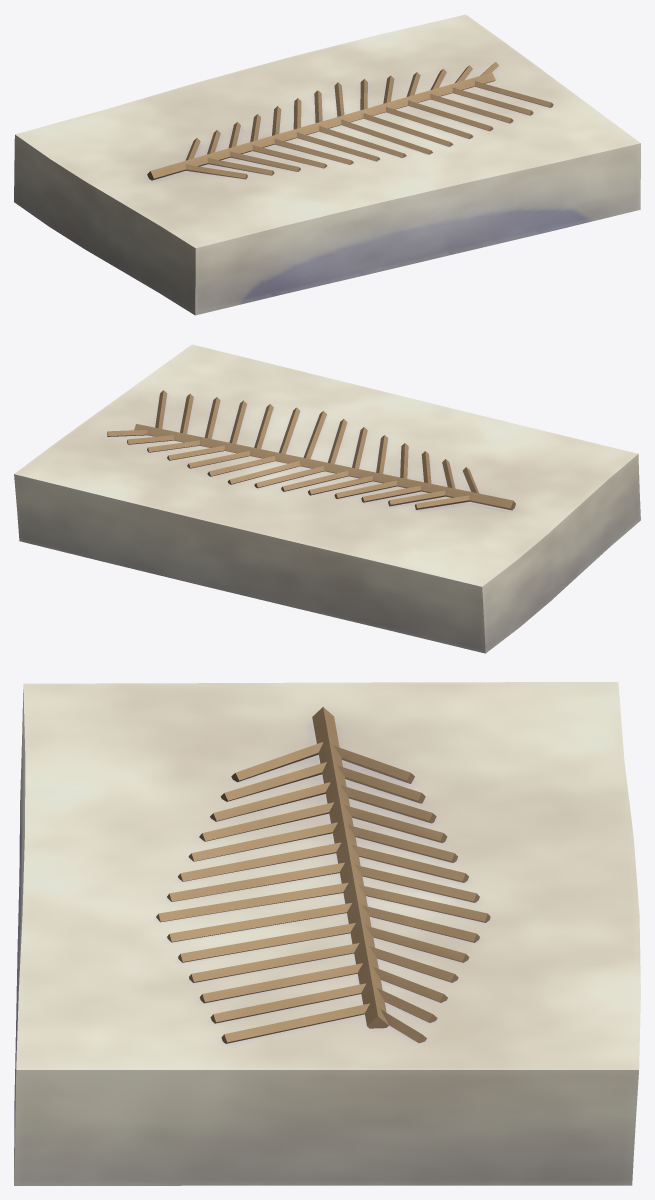
Rendered from wing_slab.glb.
3 views of the same model, one above another, from view 1: azimuth 30°, elevation 25°; view 2: azimuth 150°, elevation 25°; view 3: azimuth 270°, elevation 25° (orthographic). The views are drawn at different scales.
Visible parts, largest first — view 1: SM_WingSlab; view 2: SM_WingSlab; view 3: SM_WingSlab.
Part boxes in pixels (<box>): SM_WingSlab: <box>14,14,640,315</box>; SM_WingSlab: <box>14,344,640,653</box>; SM_WingSlab: <box>14,682,640,1185</box>.
Size of the model in its own units: 0.5142 by 0.0834 by 0.3426.
Materials: 2 (2 with a texture image).
